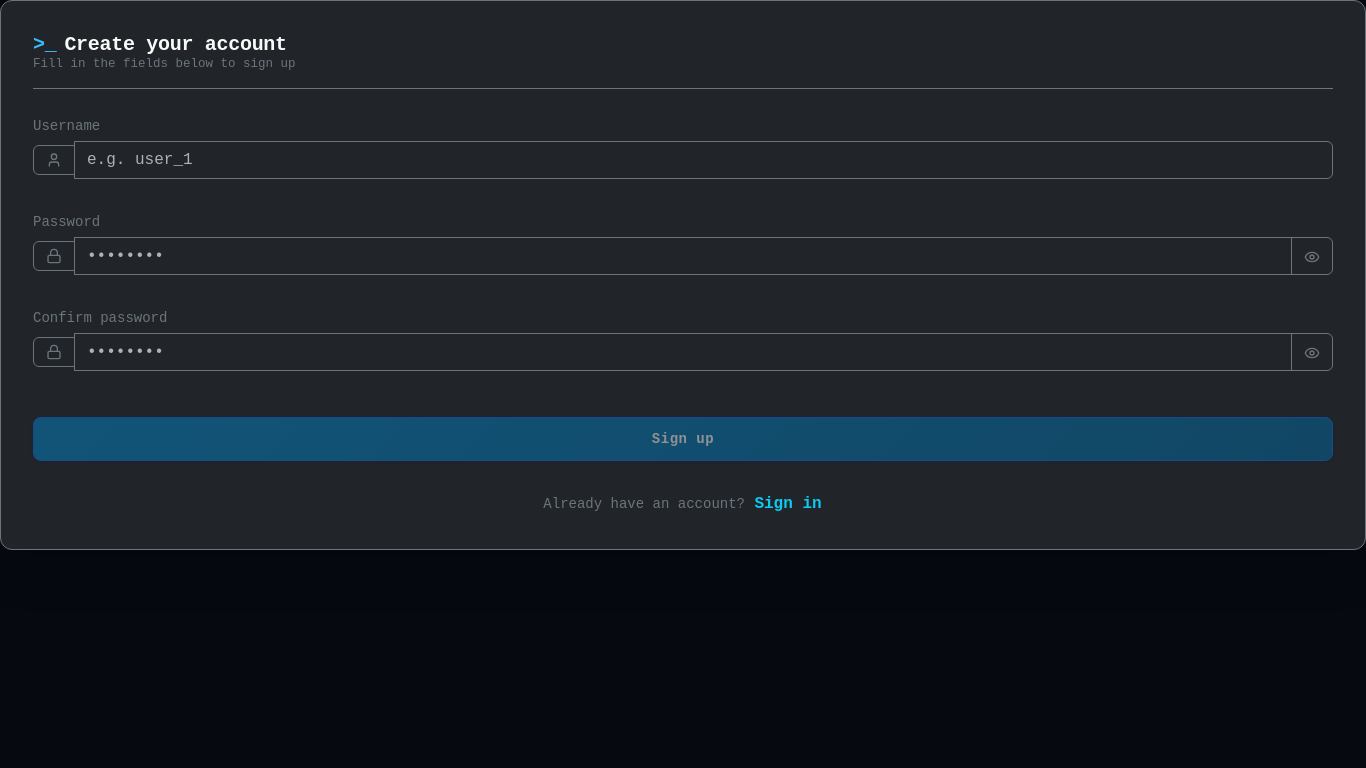
it: RegisterForm › clears a previous validation error on a new submit
Step 1. Type "alice" into the field labelled "Username" → x=704, y=160, box x1=74 y1=141 x2=1333 y2=179
Step 2. Type "abc" into the password field labelled "Password" → x=683, y=256, box x1=74 y1=237 x2=1292 y2=275
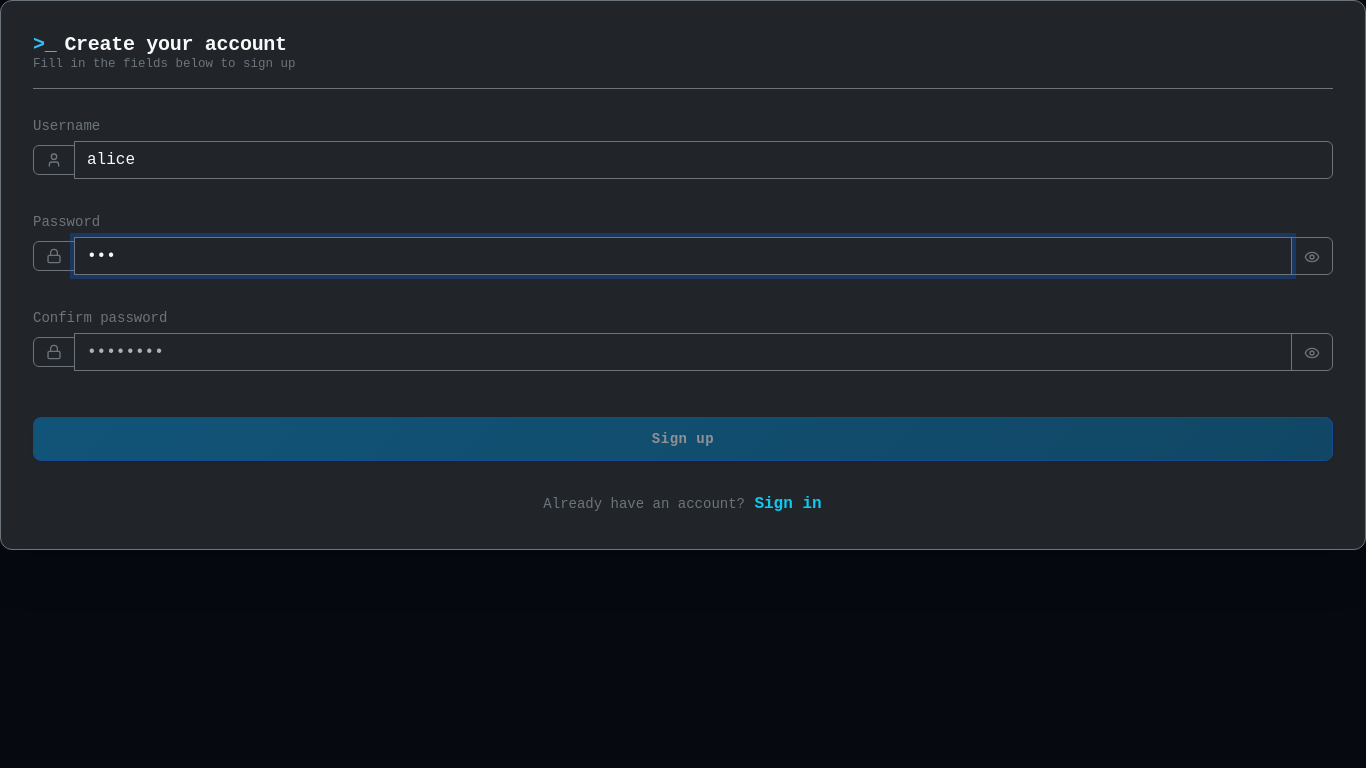
Step 3. Type "abc" into the password field labelled "Confirm password" → x=683, y=352, box x1=74 y1=333 x2=1292 y2=371
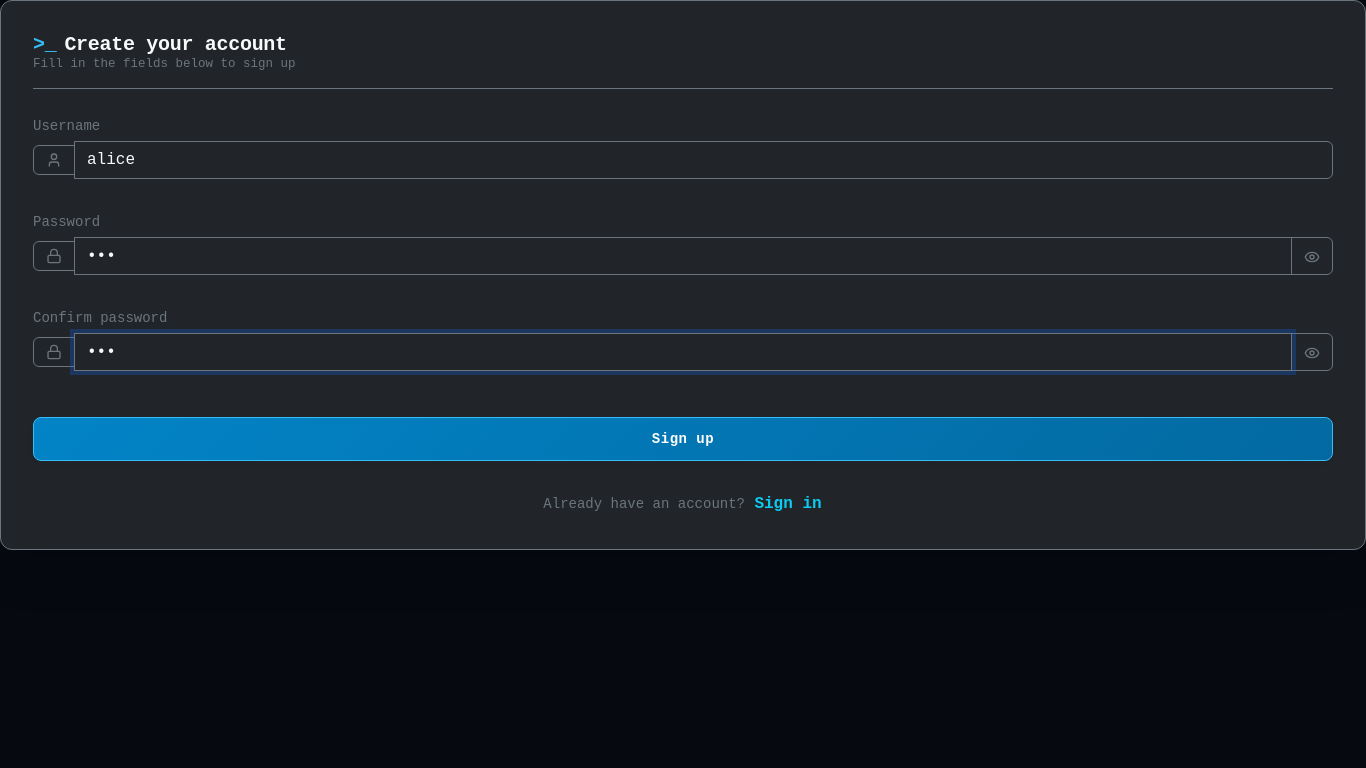
Step 4. Click the button "Sign up" → x=683, y=439, box x1=33 y1=417 x2=1333 y2=461
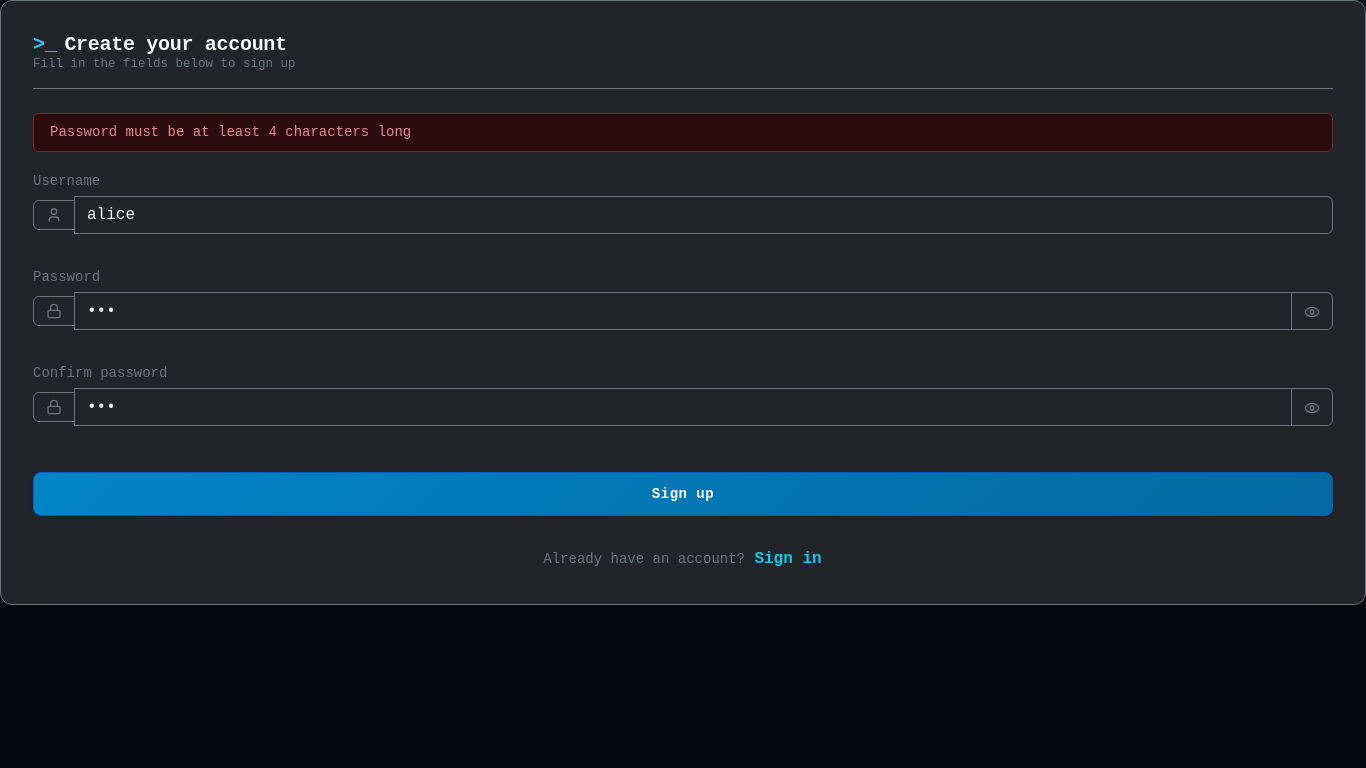
Check: the text "Password must be at least 4 characters long" is shown, box x1=50 y1=122 x2=411 y2=143
Step 5. Type "secret" into the password field labelled "Password" → x=683, y=311, box x1=74 y1=292 x2=1292 y2=330
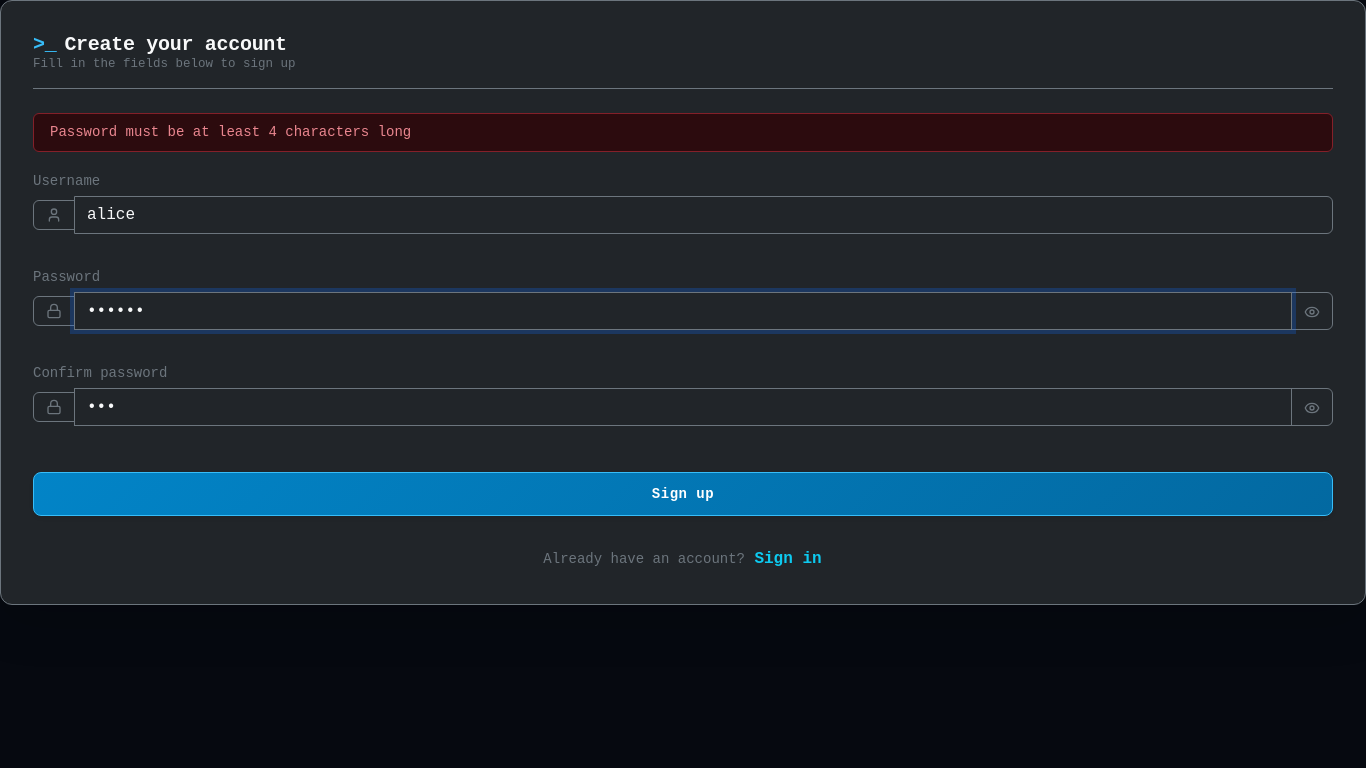
Step 6. Type "secret" into the password field labelled "Confirm password" → x=683, y=407, box x1=74 y1=388 x2=1292 y2=426
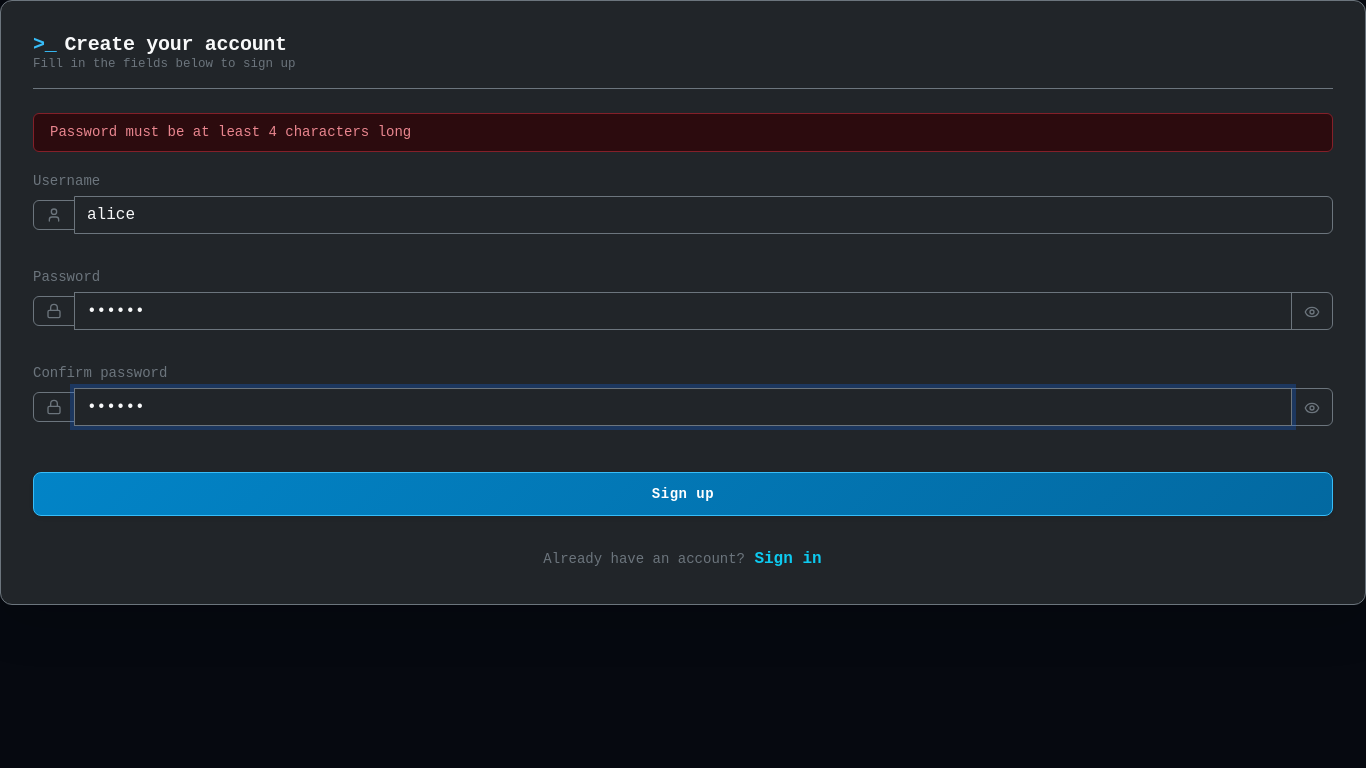
Step 7. Click the button "Sign up" → x=683, y=494, box x1=33 y1=472 x2=1333 y2=516
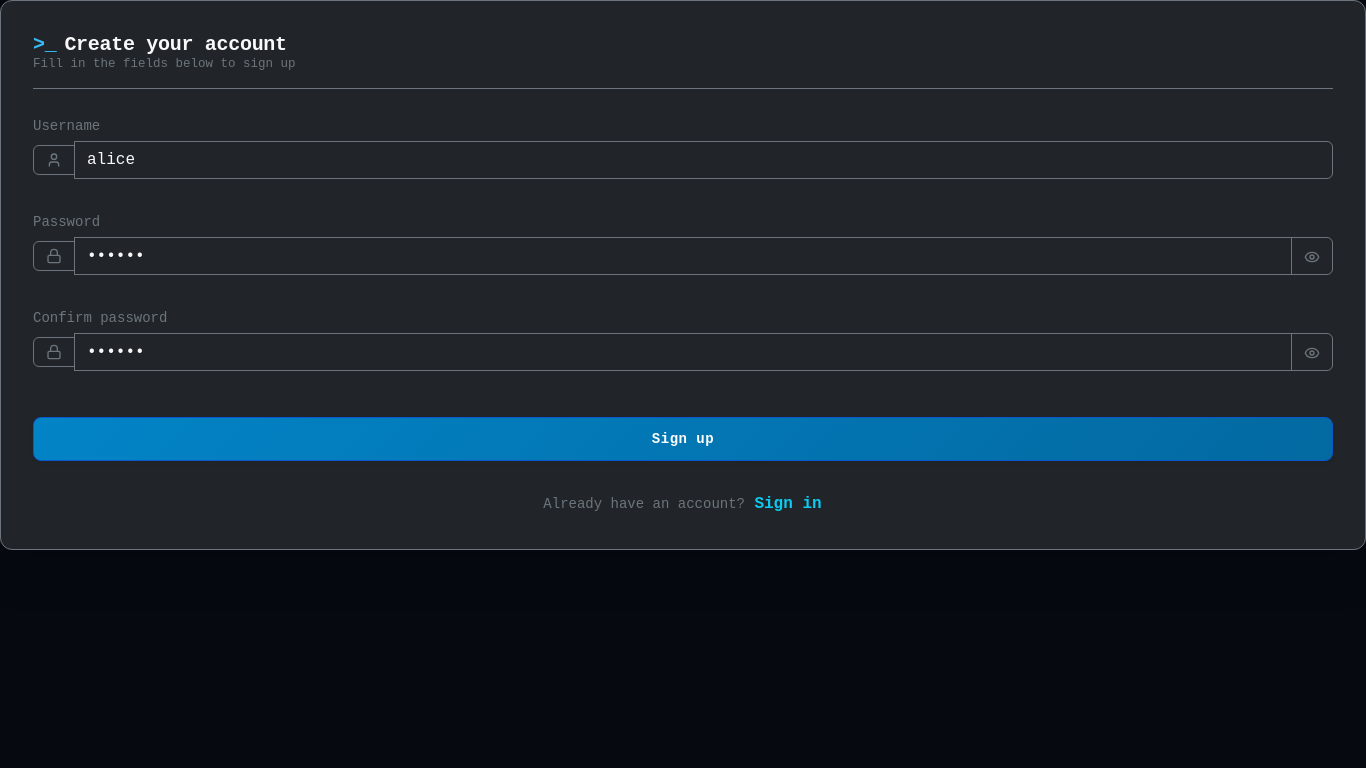
Check: the text "Password must be at least 4 characters long" is gone
